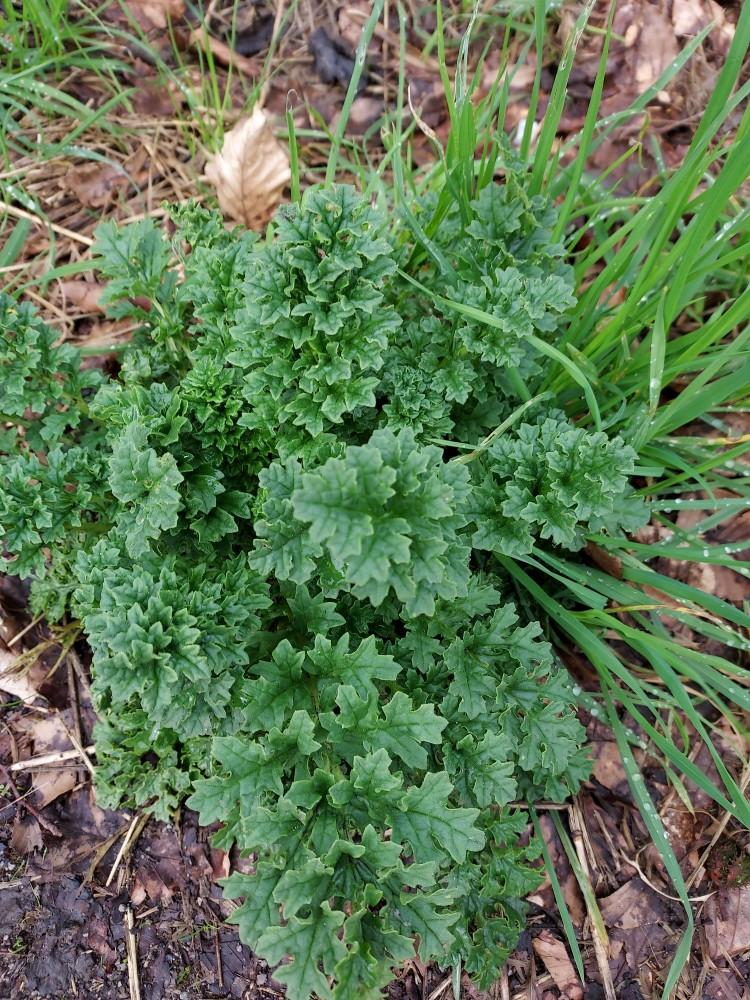Jacobaea vulgaris: (0, 136, 666, 1000)
